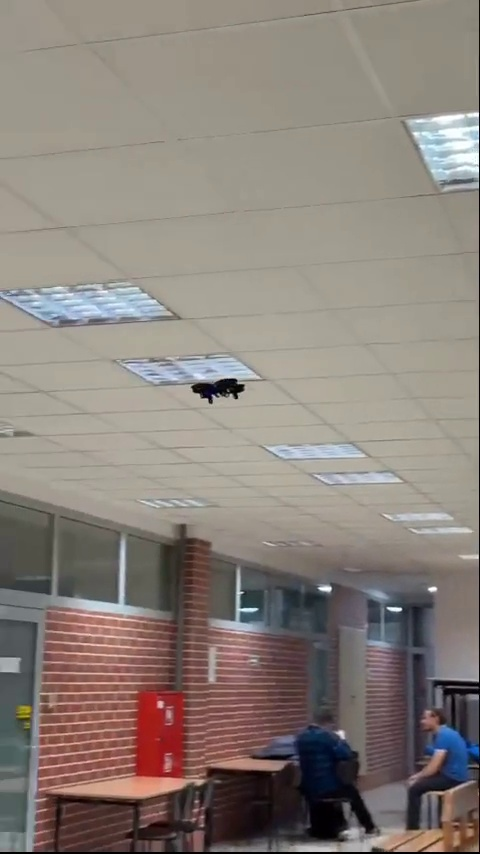drone: (190, 376, 246, 403)
no vest: (403, 705, 475, 807), (295, 709, 366, 803)
